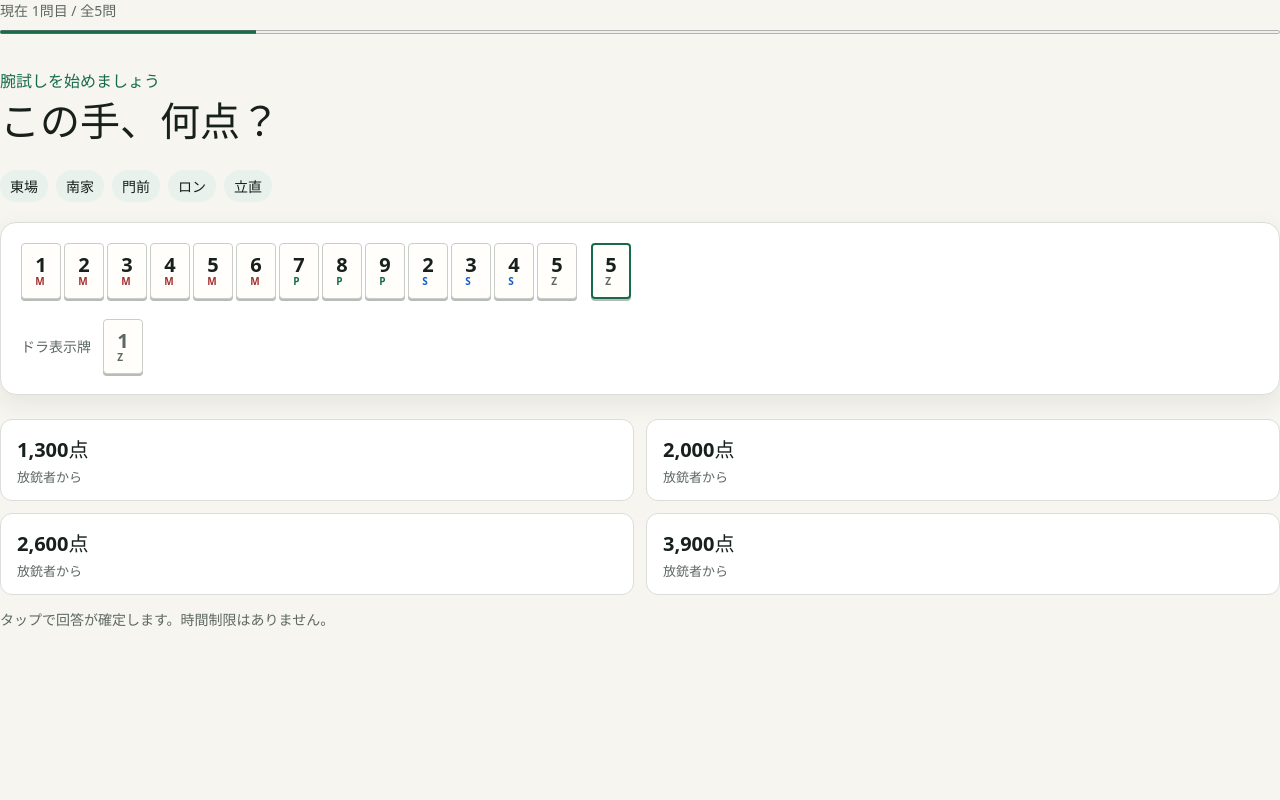
Scenario: QuizPage › routes a wrong answer to the neutral probe introduction
Click the button "2,000点 放銃者から": (699, 450) [646, 419, 1279, 501]
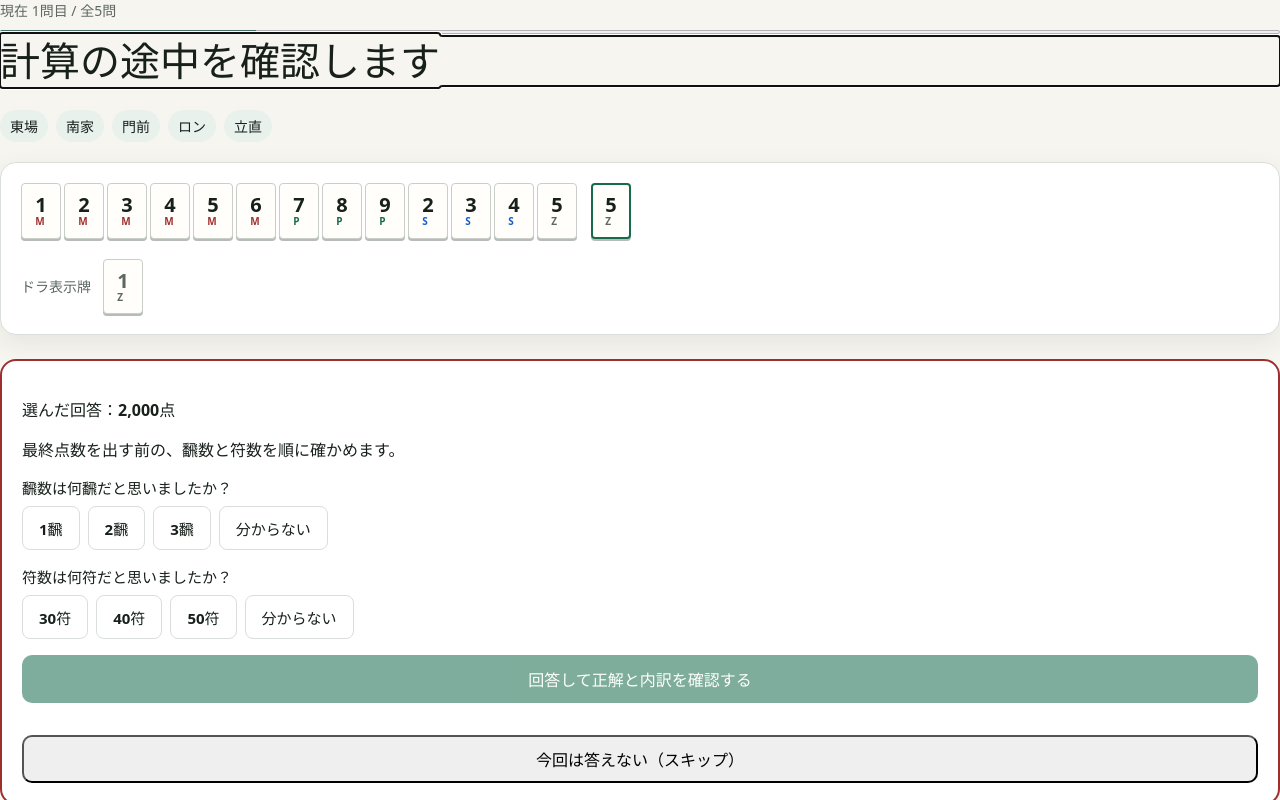
expect the heading "計算の途中を確認します" is shown: met, box [0, 33, 440, 88]
